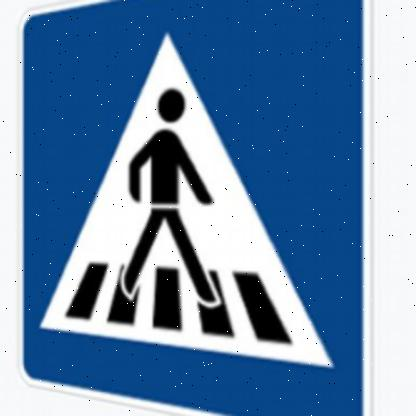Pedestrian Crossing: (21, 1, 371, 416)
